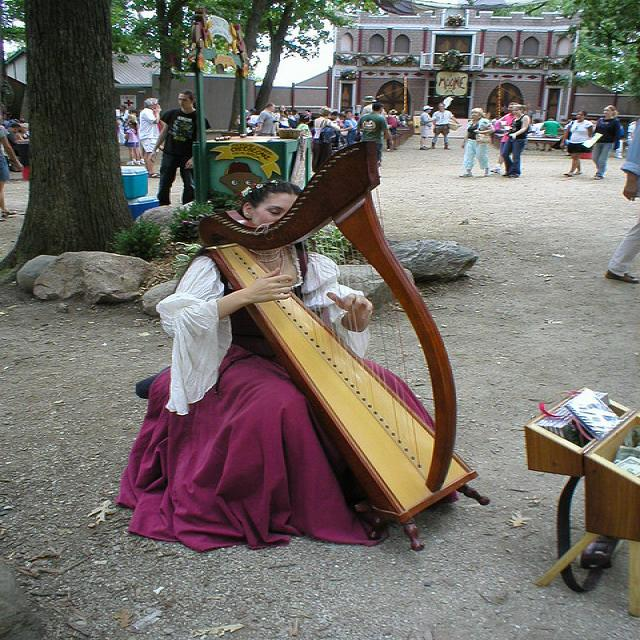harp: (193, 140, 501, 549)
